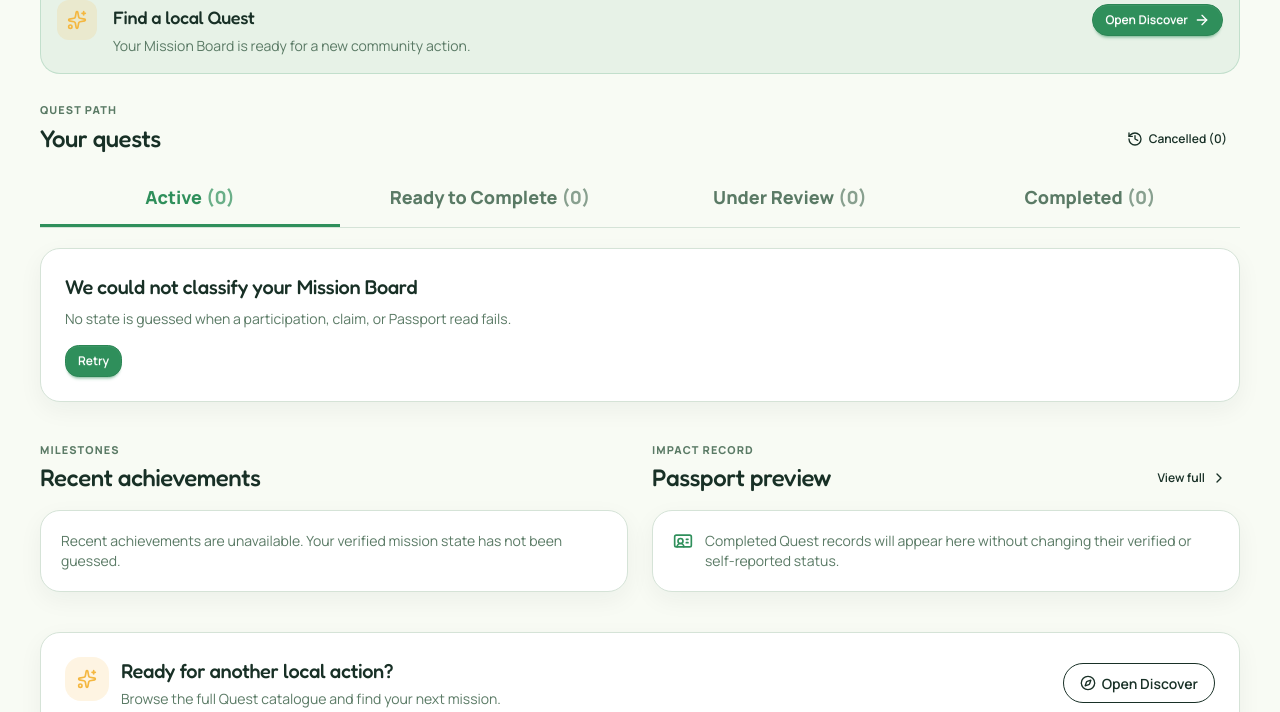
Scenario: MyQuestsPage › contains an API failure and offers an explicit retry
The width and height of the screenshot is (1280, 712).
(page scrolled)
Check: the message shows "We could not classify your Mission Board", box x1=65 y1=275 x2=417 y2=299
Click the button "Retry" at (94, 361), box x1=65 y1=345 x2=122 y2=377
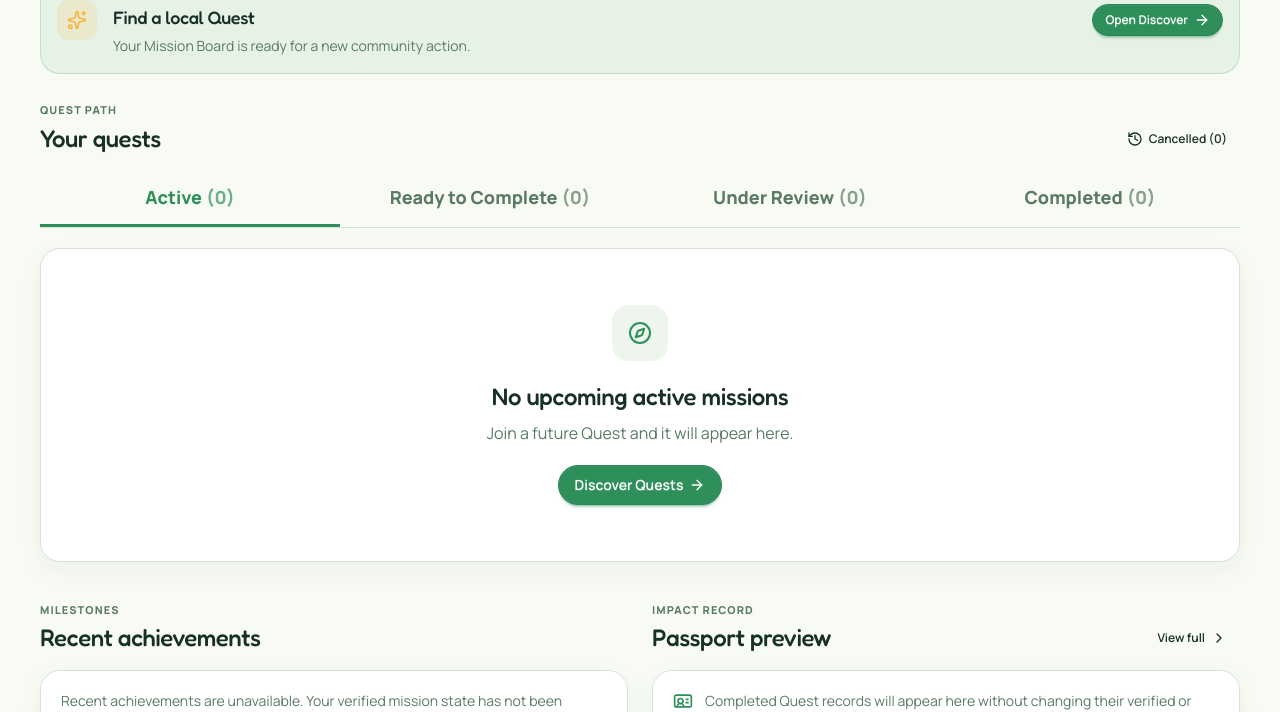
Check: the heading "No upcoming active missions" is shown, box x1=492 y1=382 x2=788 y2=411
